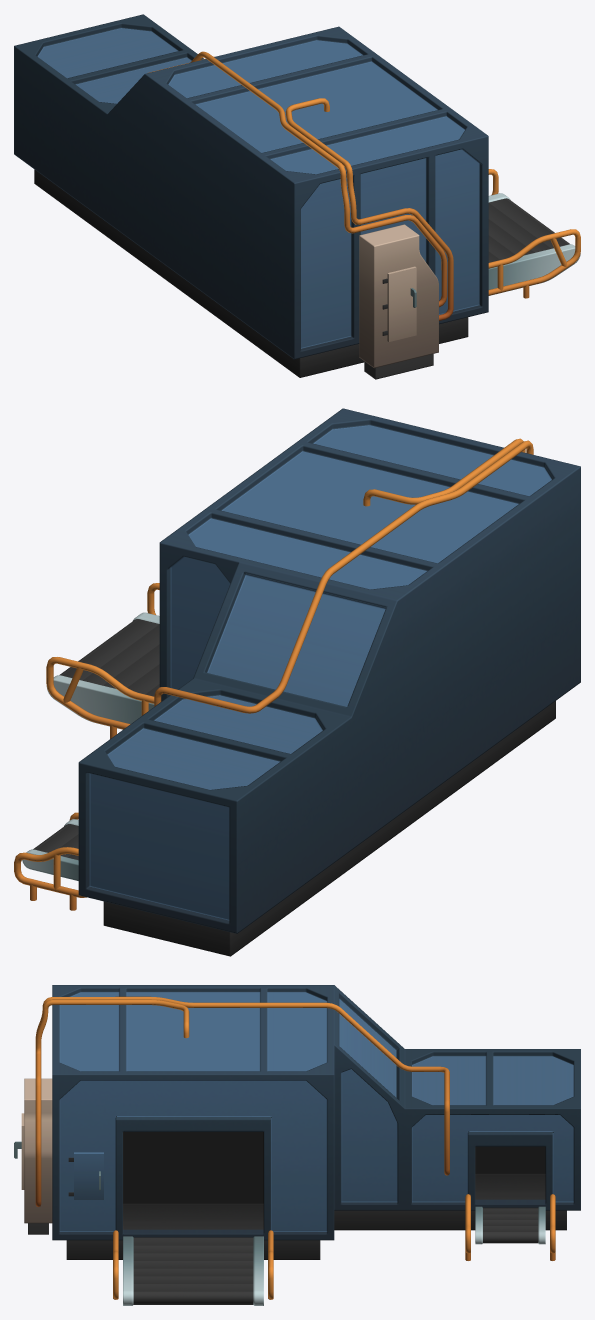
File: SM_big_box_i_fier.fbx
The picture shows the model from 3 angles, top to bottom: view 1: azimuth 30°, elevation 25°; view 2: azimuth 150°, elevation 25°; view 3: azimuth 270°, elevation 25°; orthographic projection. The views are drawn at different scales.
Visible parts, largest first — view 1: SM_big_box_i_fier, Cube.001, Pipe Curve.002, Plane.001, Plane.003, Plane, Pipe Curve; view 2: SM_big_box_i_fier, Pipe Curve.002, Plane.001, Plane, Pipe Curve, Pipe Curve.001; view 3: SM_big_box_i_fier, Plane.001, Pipe Curve.002, Cube.001, Plane, Plane.002, Pipe Curve, Pipe Curve.001.
Boxes of the visible parts, box(x1,y1,x2,y2) form: SM_big_box_i_fier: box(14, 14, 488, 377); Cube.001: box(359, 224, 438, 379); Pipe Curve.002: box(147, 51, 453, 320); Plane.001: box(488, 198, 569, 262); Plane.003: box(382, 266, 416, 341); Plane: box(488, 193, 580, 295); Pipe Curve: box(488, 169, 580, 298); SM_big_box_i_fier: box(78, 408, 580, 956); Pipe Curve.002: box(154, 438, 533, 713); Plane.001: box(33, 619, 159, 860); Plane: box(22, 612, 159, 880); Pipe Curve: box(46, 583, 159, 738); Pipe Curve.001: box(14, 812, 86, 910); SM_big_box_i_fier: box(52, 985, 580, 1259); Plane.001: box(133, 1207, 538, 1304); Pipe Curve.002: box(35, 996, 449, 1206); Cube.001: box(24, 1078, 52, 1234); Plane: box(123, 1206, 545, 1305); Plane.002: box(68, 1152, 103, 1199); Pipe Curve: box(113, 1230, 273, 1299); Pipe Curve.001: box(465, 1194, 555, 1260).
Bounding box in the file's own units: 500 × 314 × 805.
